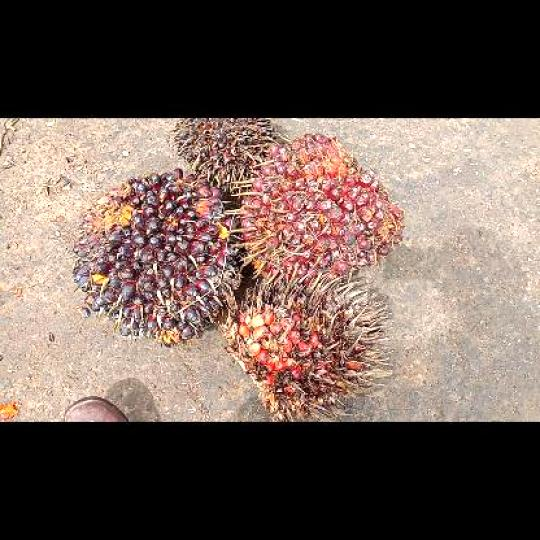kurang masak: (69, 165, 240, 349)
masak: (235, 130, 404, 282)
terlalu masak: (217, 260, 393, 420)
